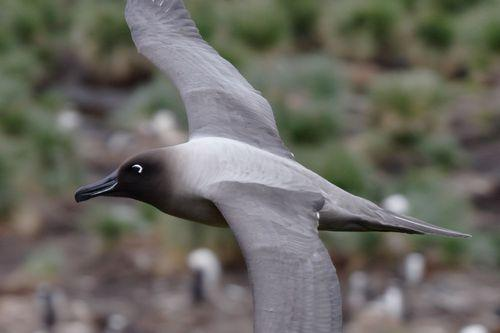003.Sooty_Albatross: (73, 1, 473, 333)
